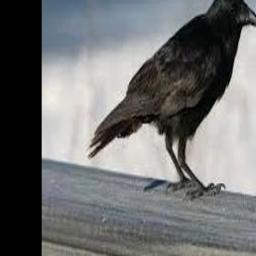Crow: (85, 0, 256, 199)
